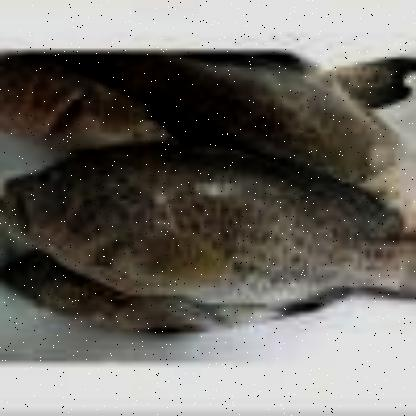ikan-pacu: (0, 141, 378, 302)
